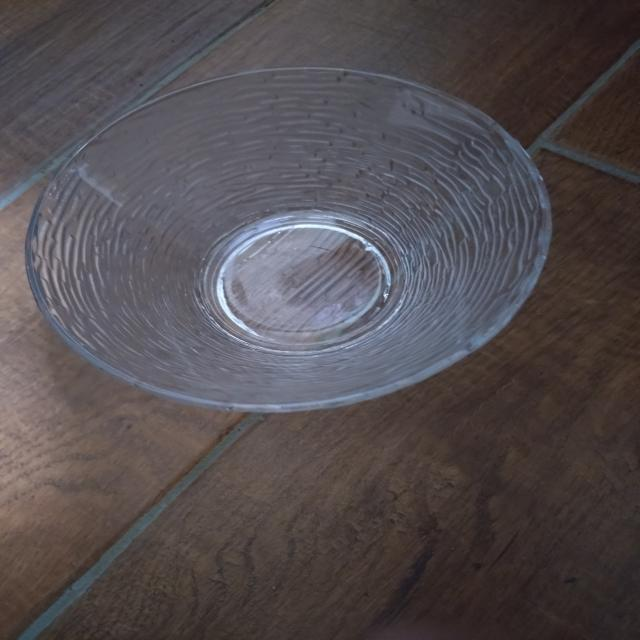Dry Waste: (19, 60, 559, 418)
